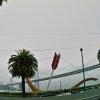Palm tree: (9, 41, 40, 95)
